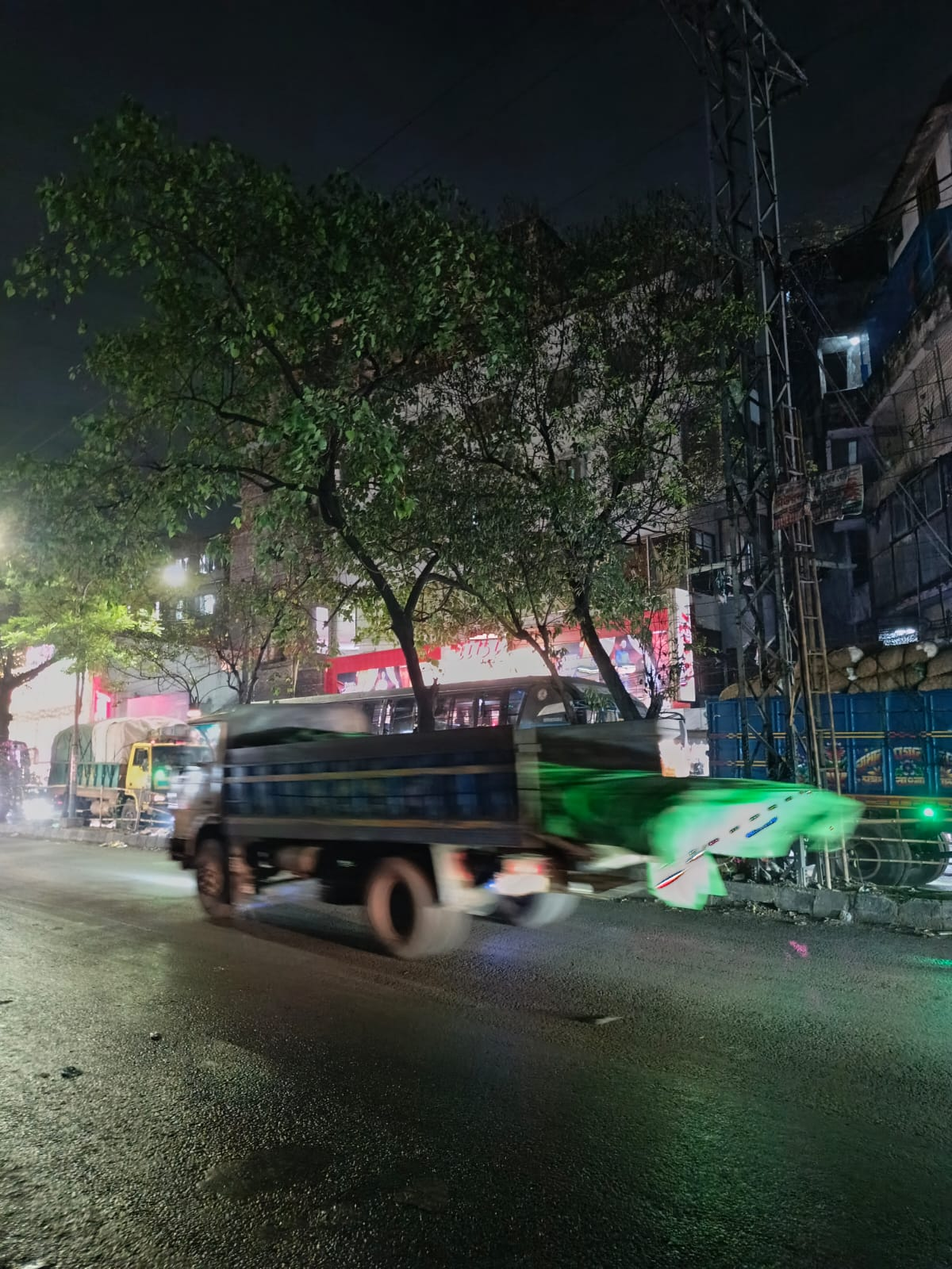Truck: (164, 661, 700, 1031), (672, 640, 952, 923), (42, 698, 235, 874)
